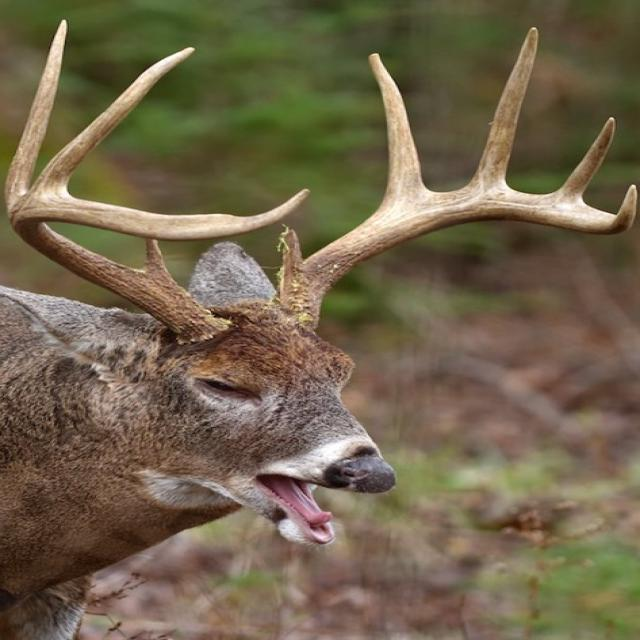L-F: (283, 182, 640, 333)
L-G1: (277, 226, 303, 286)
L-G2: (367, 52, 434, 210)
L-G3: (470, 26, 539, 190)
L-G4: (553, 116, 617, 201)
R-F: (6, 186, 315, 345)
R-G1: (143, 239, 175, 281)
R-G2: (6, 18, 68, 212)
